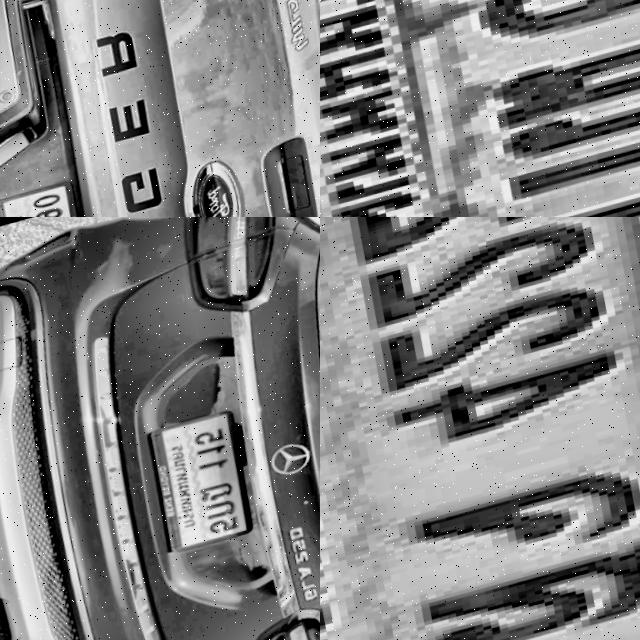license-plate: (320, 217, 640, 640), (320, 0, 640, 217), (142, 405, 267, 563), (0, 178, 101, 217)
